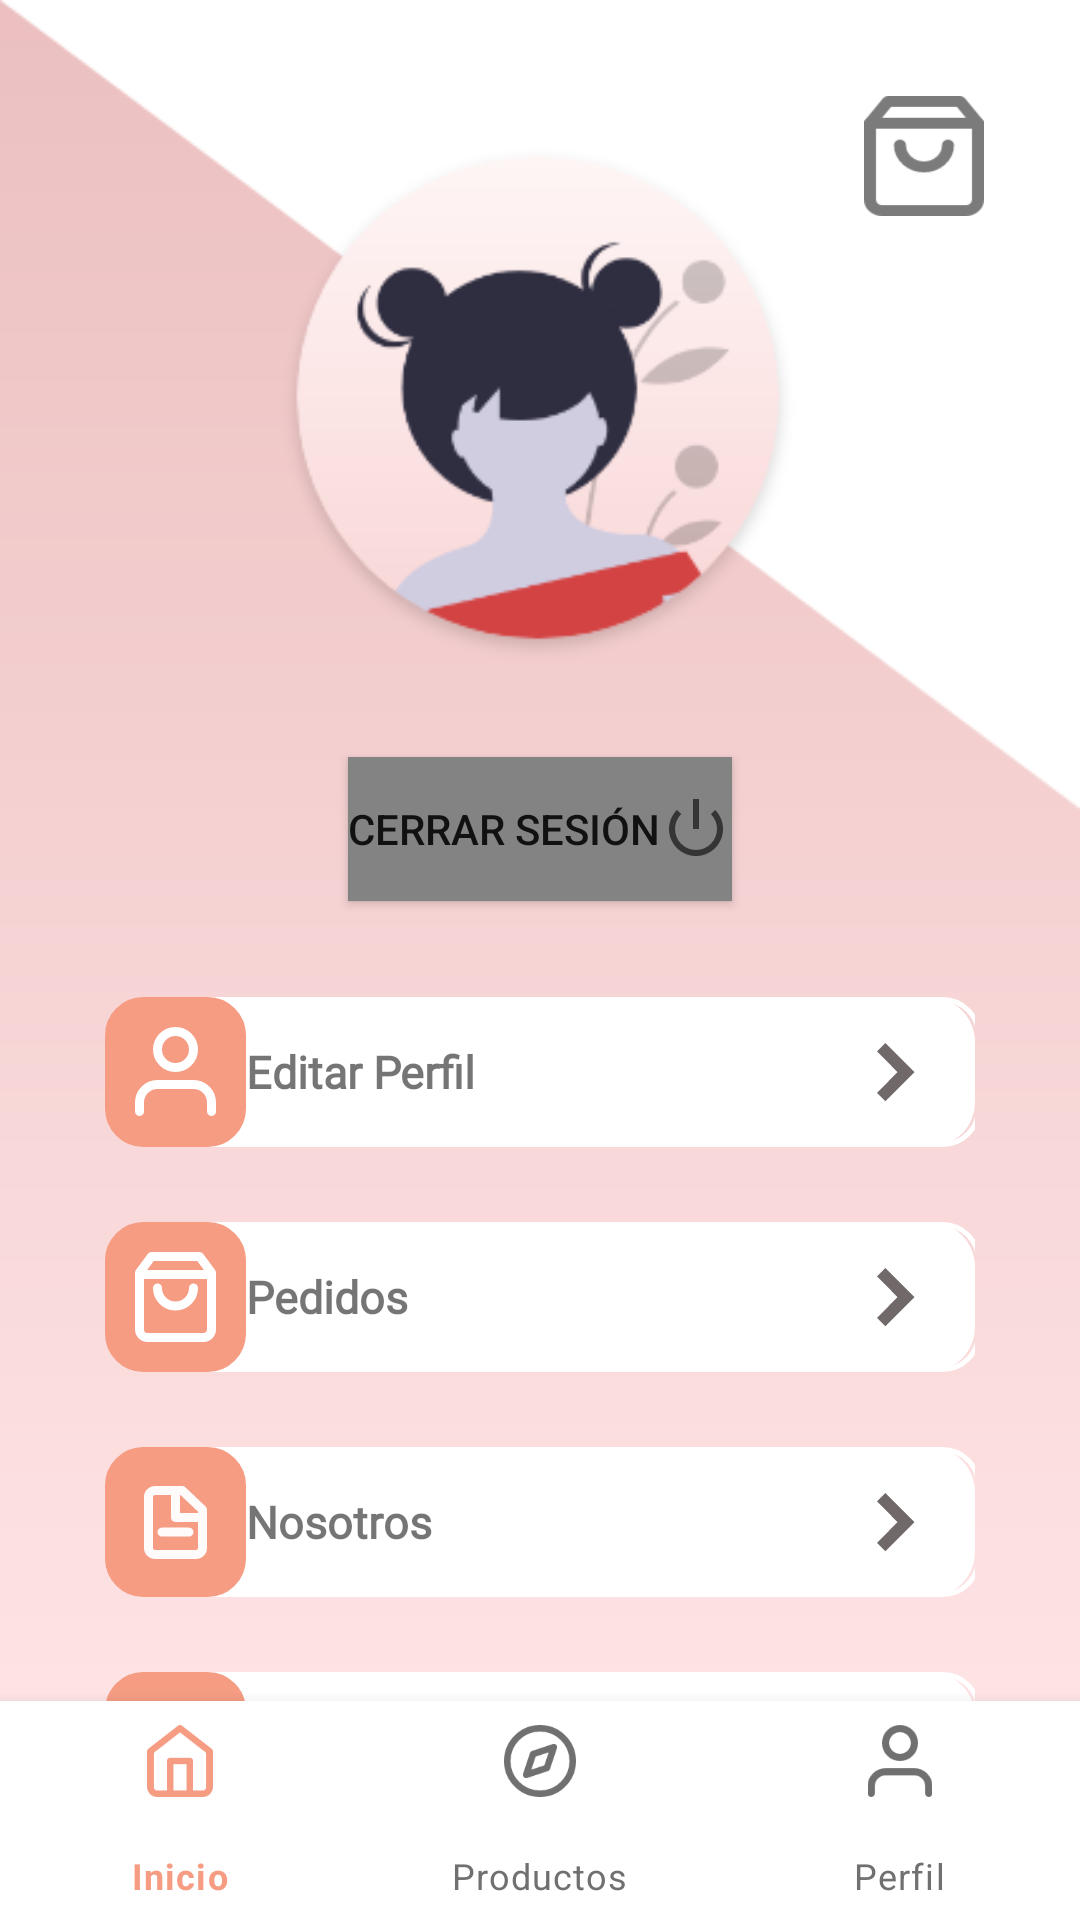

Screen size 1080x1920. Icon name, then its center in pixels as (x,y):
bag: (924,156)
bagwhite: (175,1297)
file: (175,1522)
userwhite: (175,1072)
